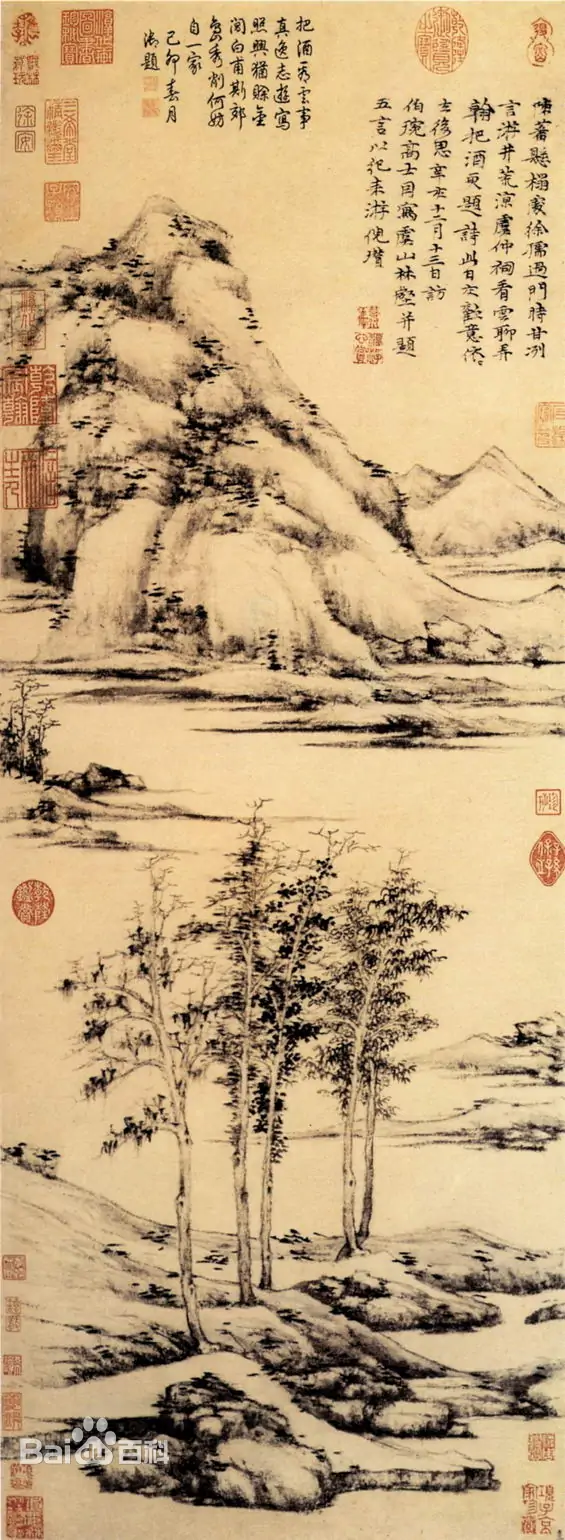hill: (374, 429, 565, 574)
mountain: (13, 194, 410, 665)
pine: (44, 813, 458, 1367)
rock: (53, 1373, 344, 1514)
